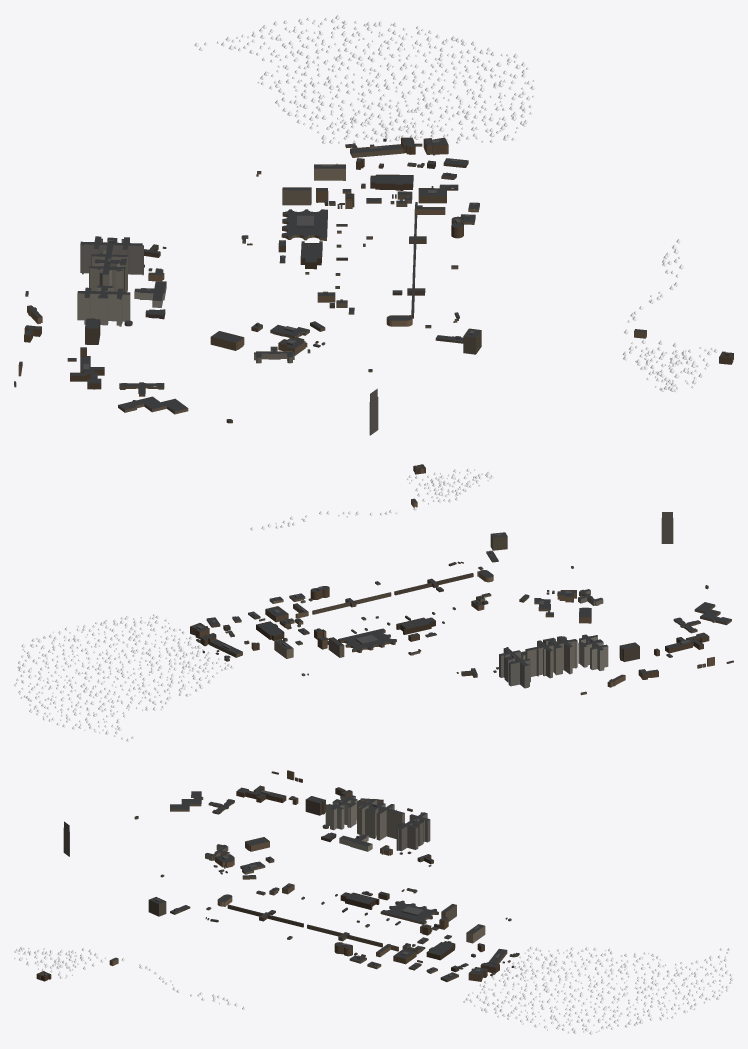
The model's file is manhattan_+02_+00.glb.
3 views of the same model, one above another, from view 1: azimuth 30°, elevation 25°; view 2: azimuth 150°, elevation 25°; view 3: azimuth 270°, elevation 25° (orthographic). The views are drawn at different scales.
Visible parts, largest first — view 1: BLD_lowrise_+02_+00, TREE_+02_+00, BLD_midrise_+02_+00; view 2: BLD_lowrise_+02_+00, TREE_+02_+00, BLD_midrise_+02_+00; view 3: BLD_lowrise_+02_+00, TREE_+02_+00, BLD_midrise_+02_+00.
Boxes of the visible parts, <box> form: BLD_lowrise_+02_+00: <box>14,137,733,423</box>; TREE_+02_+00: <box>194,14,717,392</box>; BLD_midrise_+02_+00: <box>77,163,481,354</box>; BLD_lowrise_+02_+00: <box>190,464,733,695</box>; TREE_+02_+00: <box>14,468,493,741</box>; BLD_midrise_+02_+00: <box>274,532,639,688</box>; BLD_lowrise_+02_+00: <box>36,770,519,981</box>; TREE_+02_+00: <box>14,946,733,1034</box>; BLD_midrise_+02_+00: <box>148,795,485,943</box>.
Bounding box in the file's own units: 1733 × 96 × 2005.
